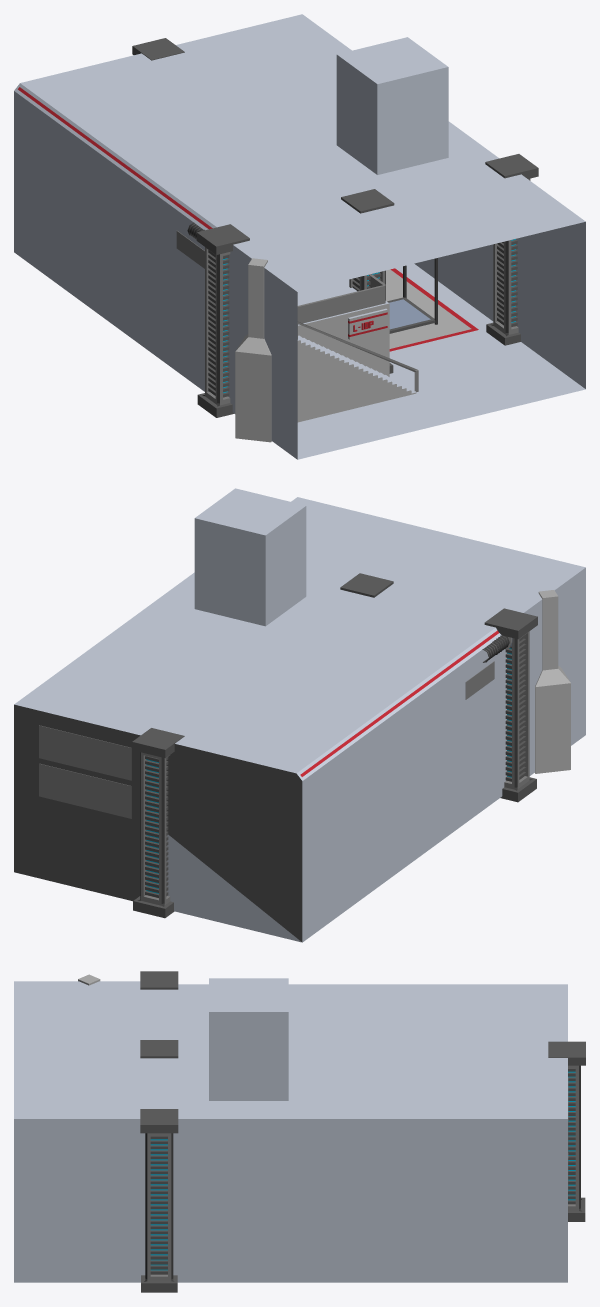
The model's file is room03.glb.
3 renders of one model, top to bottom at view 1: azimuth 30°, elevation 25°; view 2: azimuth 150°, elevation 25°; view 3: azimuth 270°, elevation 25°, orthographic. The views are drawn at different scales.
Visible parts, largest first — view 1: Room03; view 2: Room03; view 3: Room03.
Part boxes in pixels (left/top/right/bottom): Room03: left=14, top=14, right=585, bottom=459; Room03: left=14, top=488, right=585, bottom=942; Room03: left=14, top=971, right=585, bottom=1292.
Size of the model in its own units: 20.55 by 15.54 by 31.64.
1 material, 1 textured.
